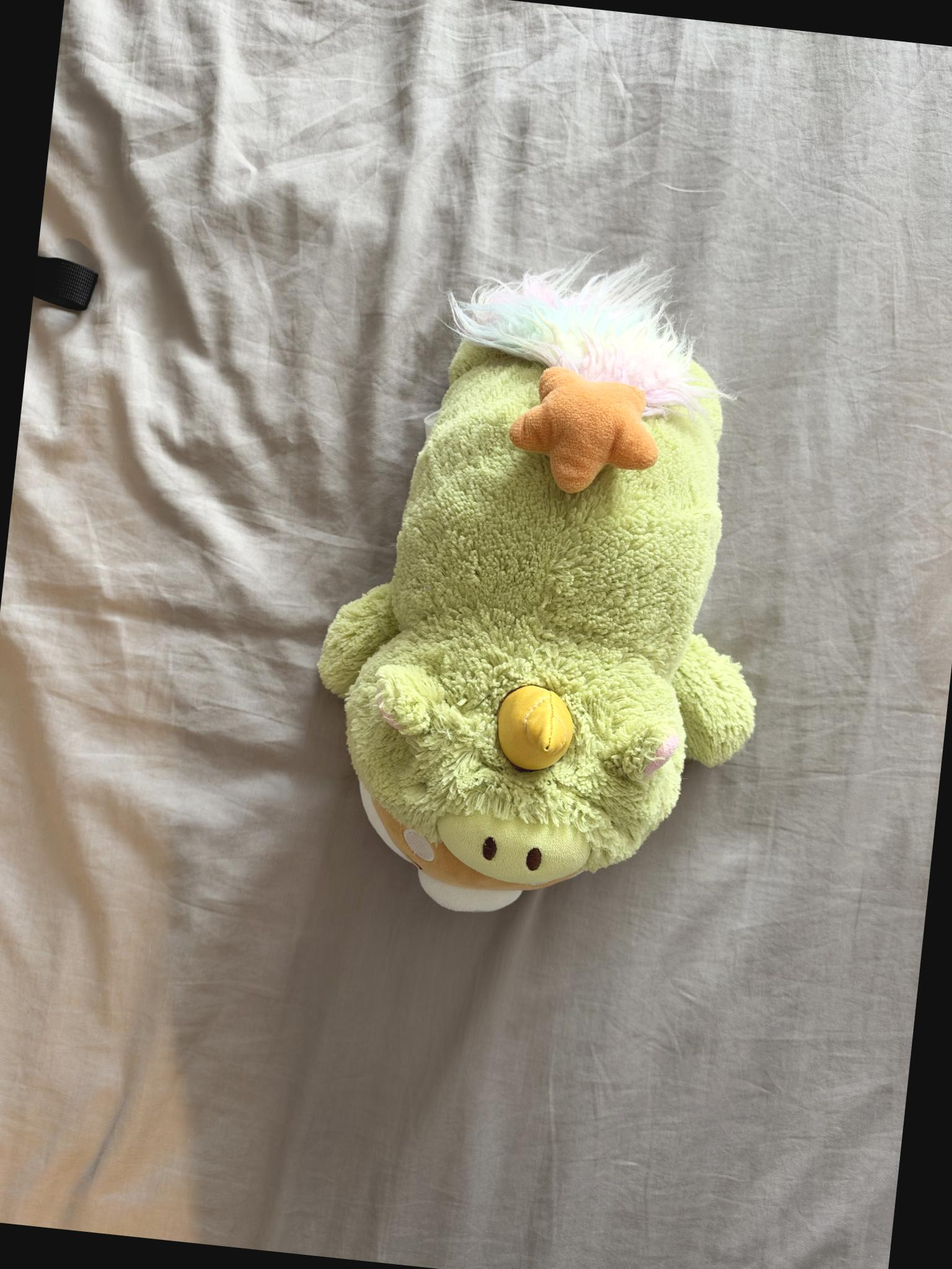peluche_martin: (294, 226, 807, 946)
